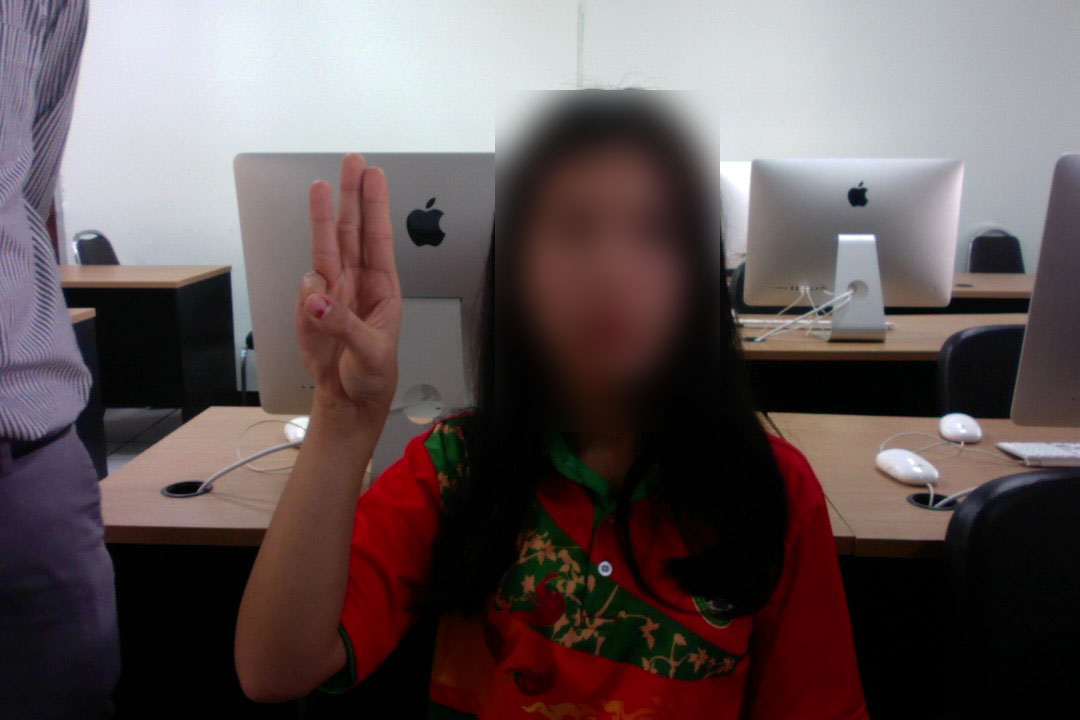wor: (290, 150, 408, 419)
